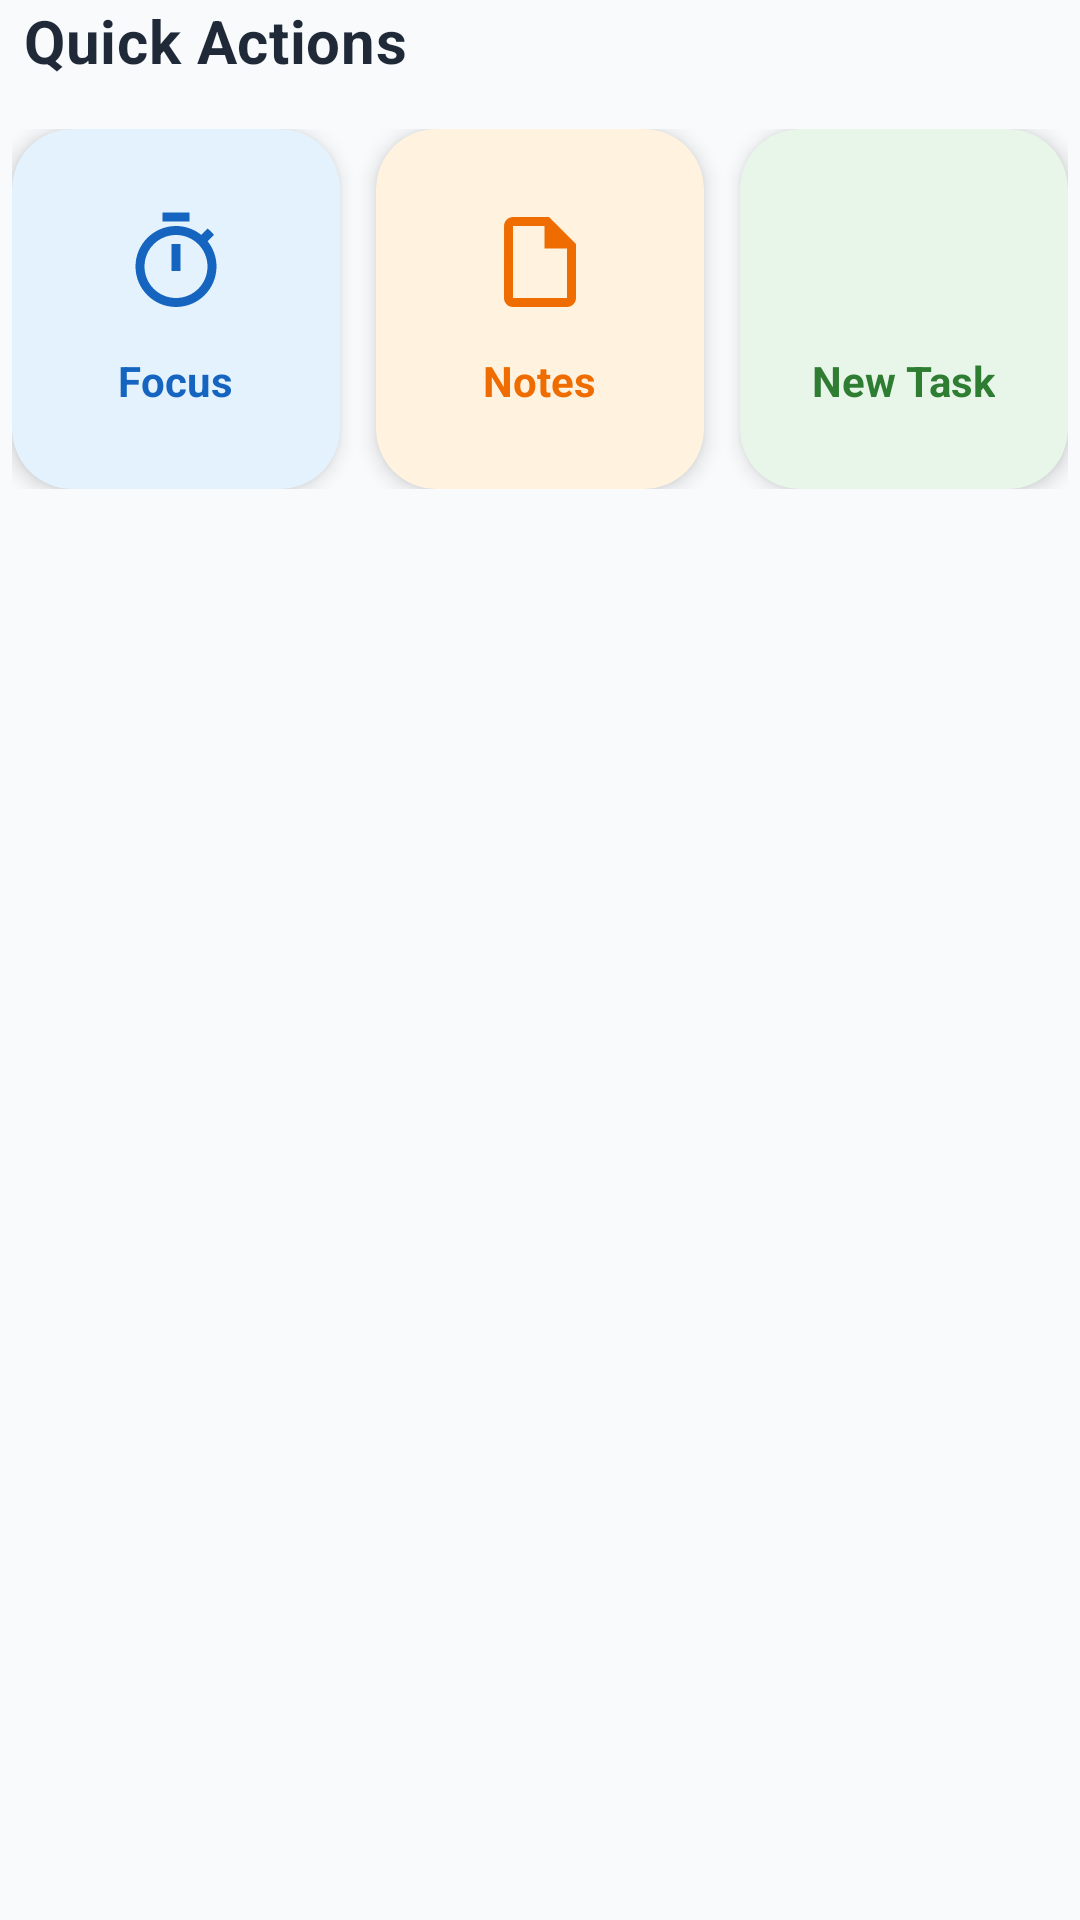

Named icons in this screenshot (1080px x 1920px) and their centers, (x,y):
timer: (176,259)
